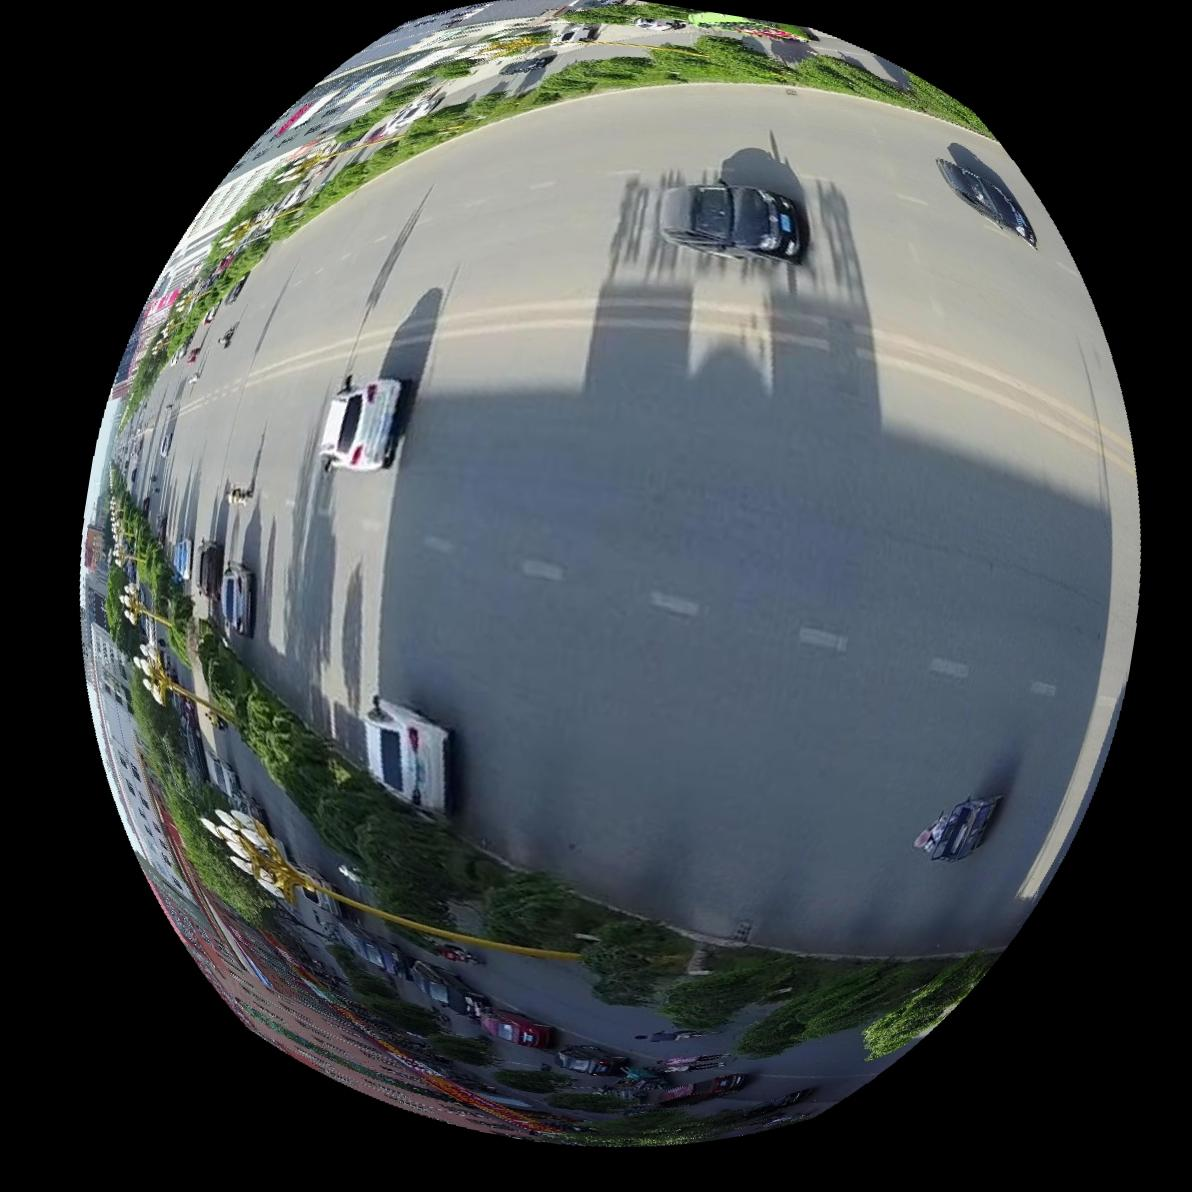cars: (660, 179, 802, 261), (363, 696, 449, 812), (938, 156, 1037, 245), (319, 376, 407, 470), (220, 561, 252, 636), (194, 539, 222, 599), (171, 537, 192, 580)
trees: (196, 628, 994, 1061), (266, 33, 992, 239)
